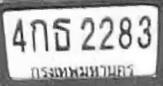2: (79, 16, 94, 50), (98, 16, 113, 50)
3: (136, 14, 151, 48)
4: (12, 18, 25, 52)
8: (117, 16, 131, 49)
A01: (29, 18, 48, 51)
A24: (52, 17, 70, 51)
BKK: (27, 59, 139, 81)
